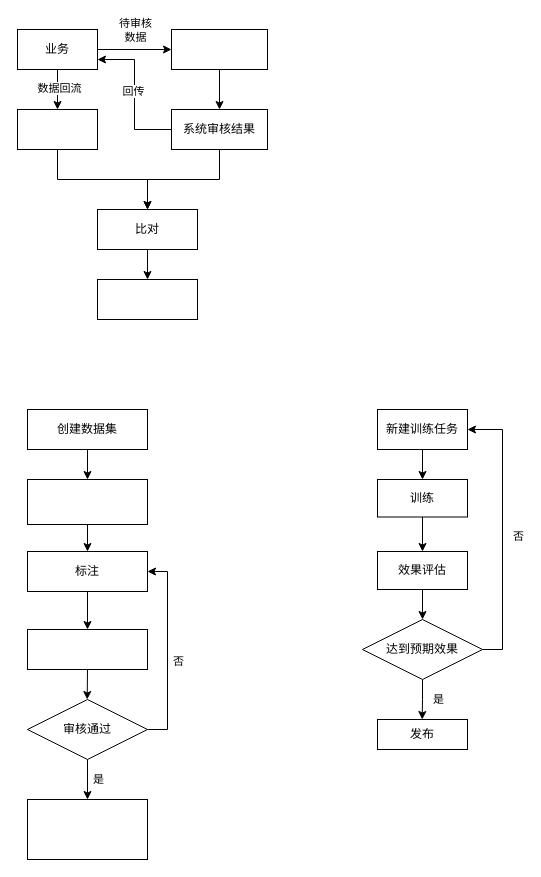
This 541x877 diagram has some shape labels left out. Here are the shapes that lost their labels. From the top down, the centre of each, then its label:
the point at 219,49: 智能审单系统
the point at 57,129: 回流数据质检
the point at 147,299: 统计正确率
the point at 87,501: 创建标注任务
the point at 87,649: 数据审核
the point at 87,829: 提交
